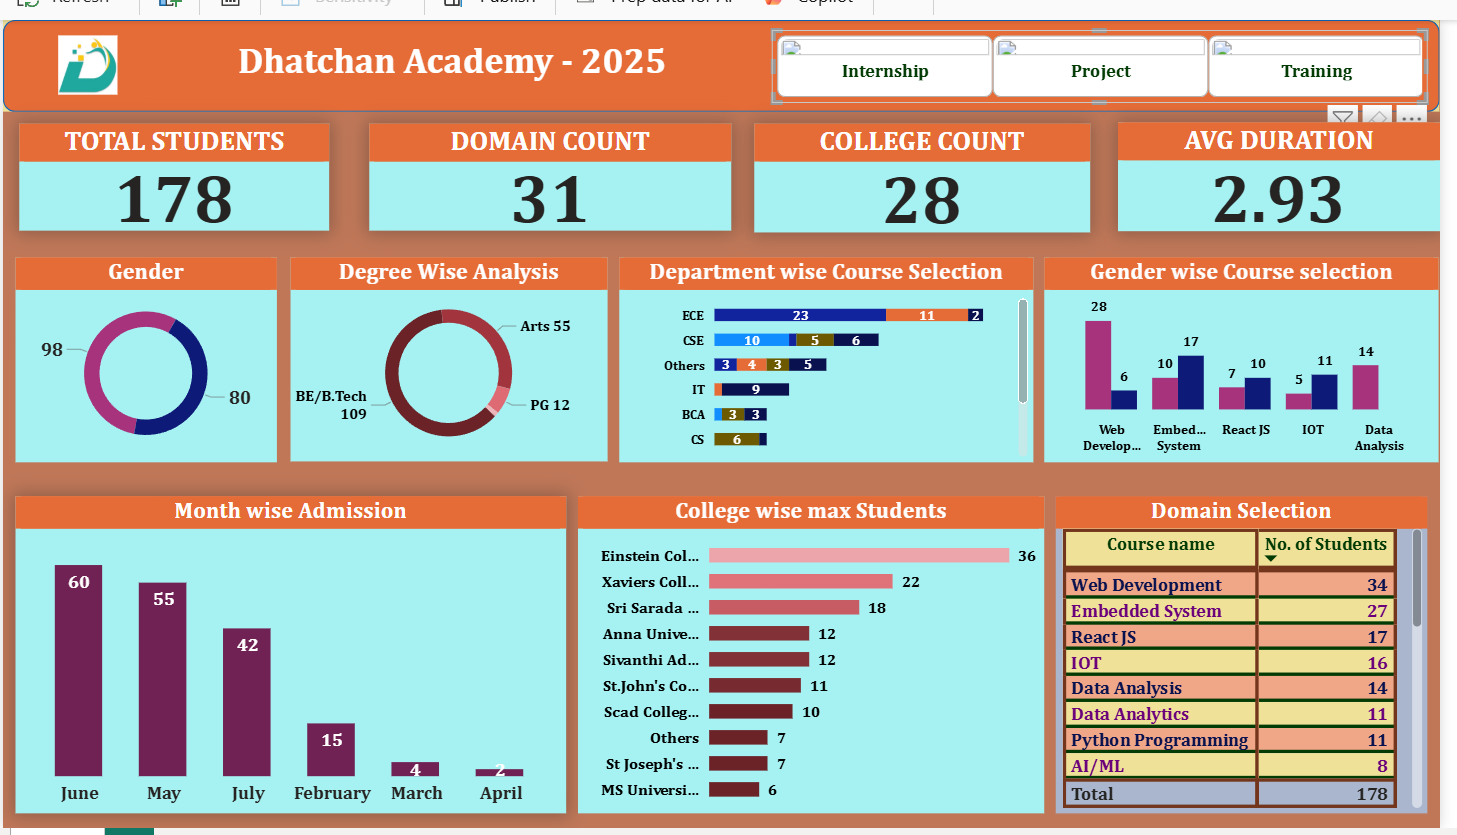

The dashboard page shown, as its layout file describes it:
{"tool":"powerbi","page":{"name":"Page 1","canvas":[1280,720],"ordinal":0},"visuals":[{"type":"shape","box":[0,0,1279.4,81.9],"z":0},{"type":"textbox","box":[129.7,12.3,539.4,58.7],"z":1000},{"type":"image","box":[20.8,8.5,108.7,62.3],"z":2000},{"type":"card","title":"TOTAL STUDENTS","fields":{"Values":["CountNonNull(Sheet1.Student Name)"]},"box":[14.7,92.8,275.9,95.2],"z":3000},{"type":"donutChart","title":"Gender","fields":{"Category":["Sheet1.Gender"],"Y":["CountNonNull(Sheet1.Student Name)"]},"box":[11.2,211.2,232.5,182.5],"z":4000},{"type":"columnChart","title":"Month wise Admission","fields":{"Category":["Sheet1.Month"],"Y":["CountNonNull(Sheet1.Student Name)"]},"box":[11.2,423.8,490,282.5],"z":5000},{"type":"donutChart","title":"Degree Wise Analysis","fields":{"Category":["Sheet1.Grouped_Degree"],"Y":["CountNonNull(Sheet1.Student Name)"]},"box":[256.4,211.2,282,181.9],"z":6000},{"type":"advancedSlicerVisual","title":"Slicer","fields":{"Values":["Sheet1.Program"]},"box":[684.6,8.9,584.4,65.7],"z":7000},{"type":"tableEx","title":"Domain Selection","fields":{"Values":["Sheet1.Grouped_Course_Name","Sheet1.Student Name"]},"box":[937.5,423.8,331.2,282.5],"z":8000},{"type":"barChart","title":"College wise max Students","fields":{"Category":["Sheet1.College Name"],"Y":["Count(Sheet1.Student Name)"]},"box":[512.5,423.8,415,282.5],"z":9000},{"type":"card","title":"DOMAIN COUNT","fields":{"Values":["Count(Sheet1.Course Name)"]},"box":[326,92.8,322.3,95.2],"z":10000},{"type":"card","title":"COLLEGE COUNT","fields":{"Values":["Count(Sheet1.College Name)"]},"box":[669,92.8,299.1,96.5],"z":11000},{"type":"barChart","title":"Department wise Course  Selection","fields":{"Series":["Sheet1.Grouped_Course_Name"],"Y":["CountNonNull(Sheet1.Student Name)"],"Category":["Sheet1.Degree Specification"]},"box":[548.8,211.2,368.8,182.5],"z":12000},{"type":"card","title":"AVG DURATION","fields":{"Values":["Avg(Sheet1.Duration in numbers.1)"]},"box":[992.6,91.6,286.9,96.5],"z":13000},{"type":"clusteredColumnChart","title":"Gender wise Course selection","fields":{"Y":["CountNonNull(Sheet1.Student Name)"],"Category":["Sheet1.Grouped_Course_Name"],"Series":["Sheet1.Gender"]},"box":[927.5,211.2,351.2,182.5],"z":14000}]}

Visuals, with their boxes on the page's 1280x720 design canvas (x1, y1, x2, y2). These are canvas units, not pixel positions in the 1457x835 screenshot, which may show the page scaled, cropped or inside an application window:
shape: [left=0, top=0, right=1279, bottom=82]
textbox: [left=130, top=12, right=669, bottom=71]
image: [left=21, top=8, right=130, bottom=71]
"TOTAL STUDENTS" card: [left=15, top=93, right=291, bottom=188]
"Gender" donutChart: [left=11, top=211, right=244, bottom=394]
"Month wise Admission" columnChart: [left=11, top=424, right=501, bottom=706]
"Degree Wise Analysis" donutChart: [left=256, top=211, right=538, bottom=393]
"Slicer" advancedSlicerVisual: [left=685, top=9, right=1269, bottom=75]
"Domain Selection" tableEx: [left=938, top=424, right=1269, bottom=706]
"College wise max Students" barChart: [left=512, top=424, right=928, bottom=706]
"DOMAIN COUNT" card: [left=326, top=93, right=648, bottom=188]
"COLLEGE COUNT" card: [left=669, top=93, right=968, bottom=189]
"Department wise Course  Selection" barChart: [left=549, top=211, right=918, bottom=394]
"AVG DURATION" card: [left=993, top=92, right=1280, bottom=188]
"Gender wise Course selection" clusteredColumnChart: [left=928, top=211, right=1279, bottom=394]
